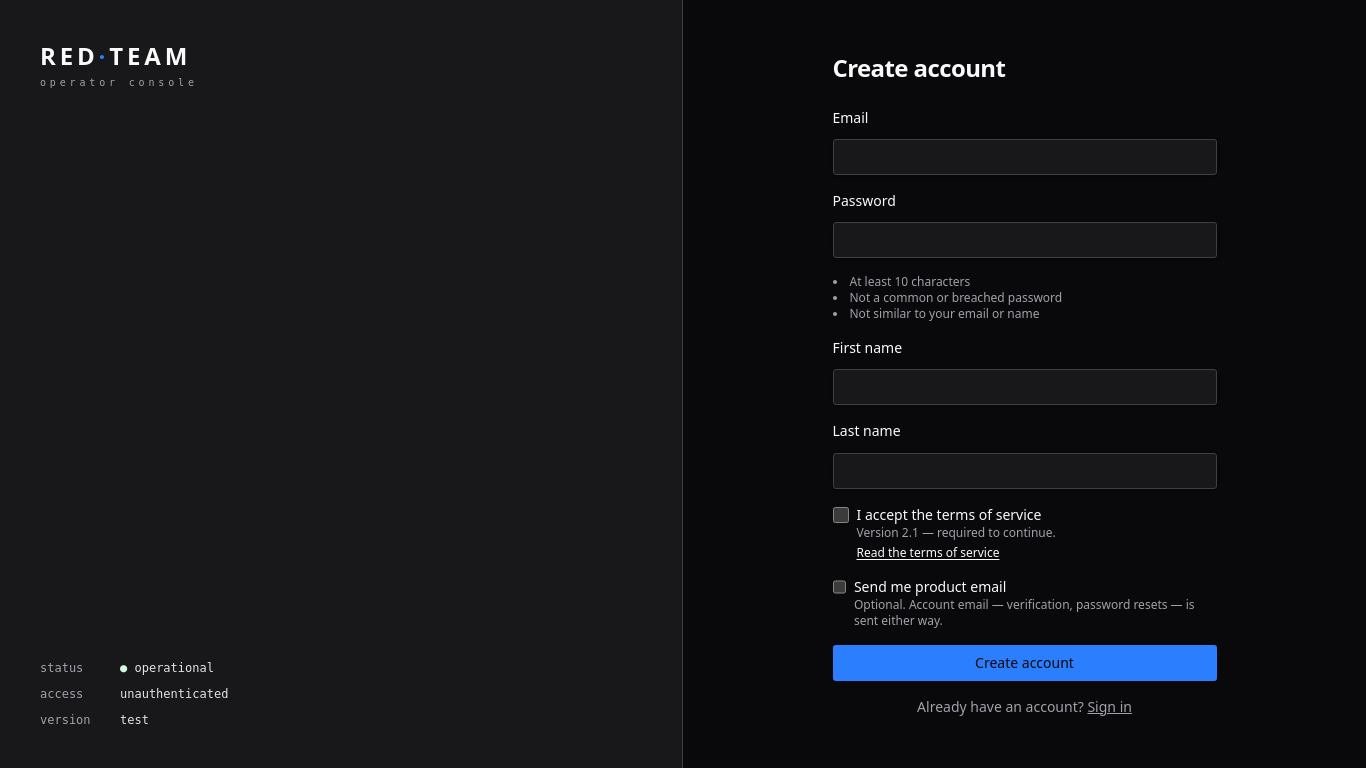
Scenario: RegisterPage — terms consent › closes the terms dialog with a button that cannot submit this form
Click the button "Read the terms of service": x=928, y=552 [856,544,1000,560]
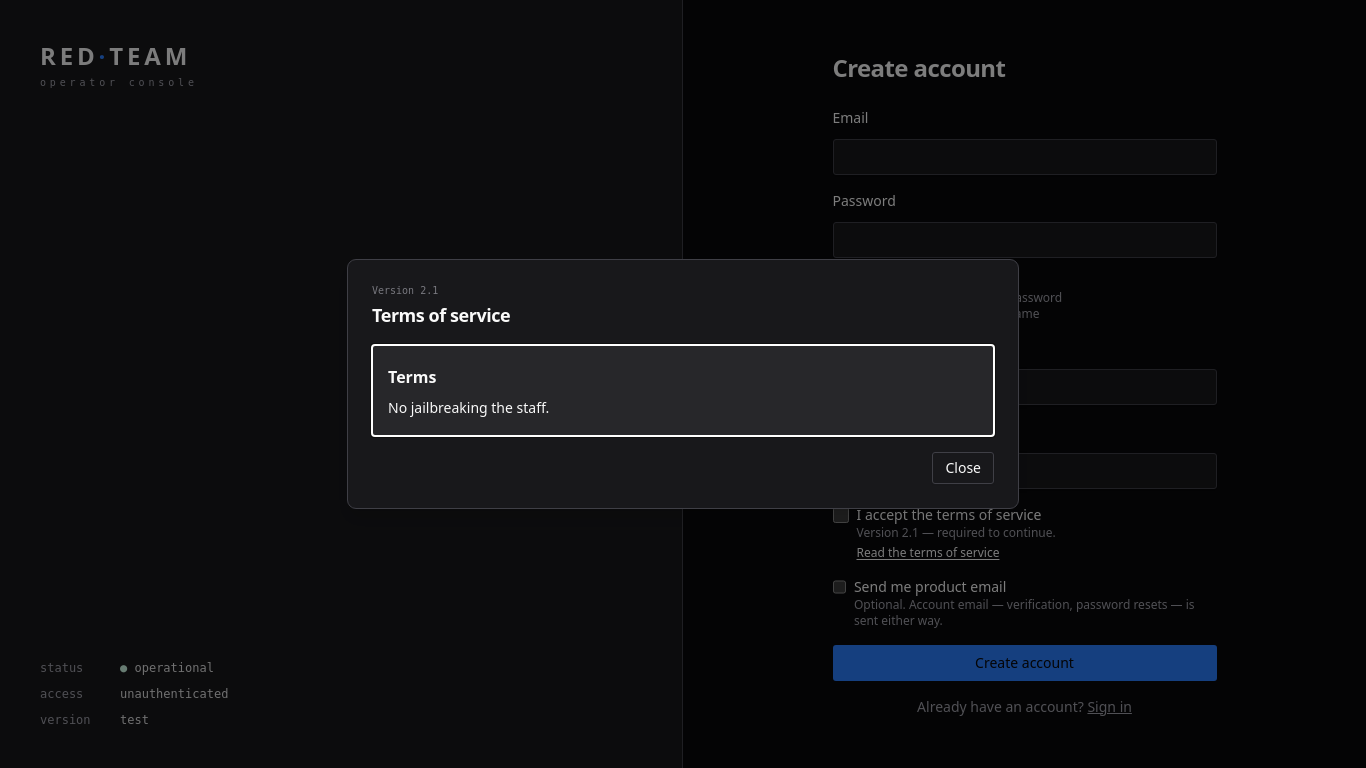
Click the button "Close": x=963, y=468 [932,452,994,484]
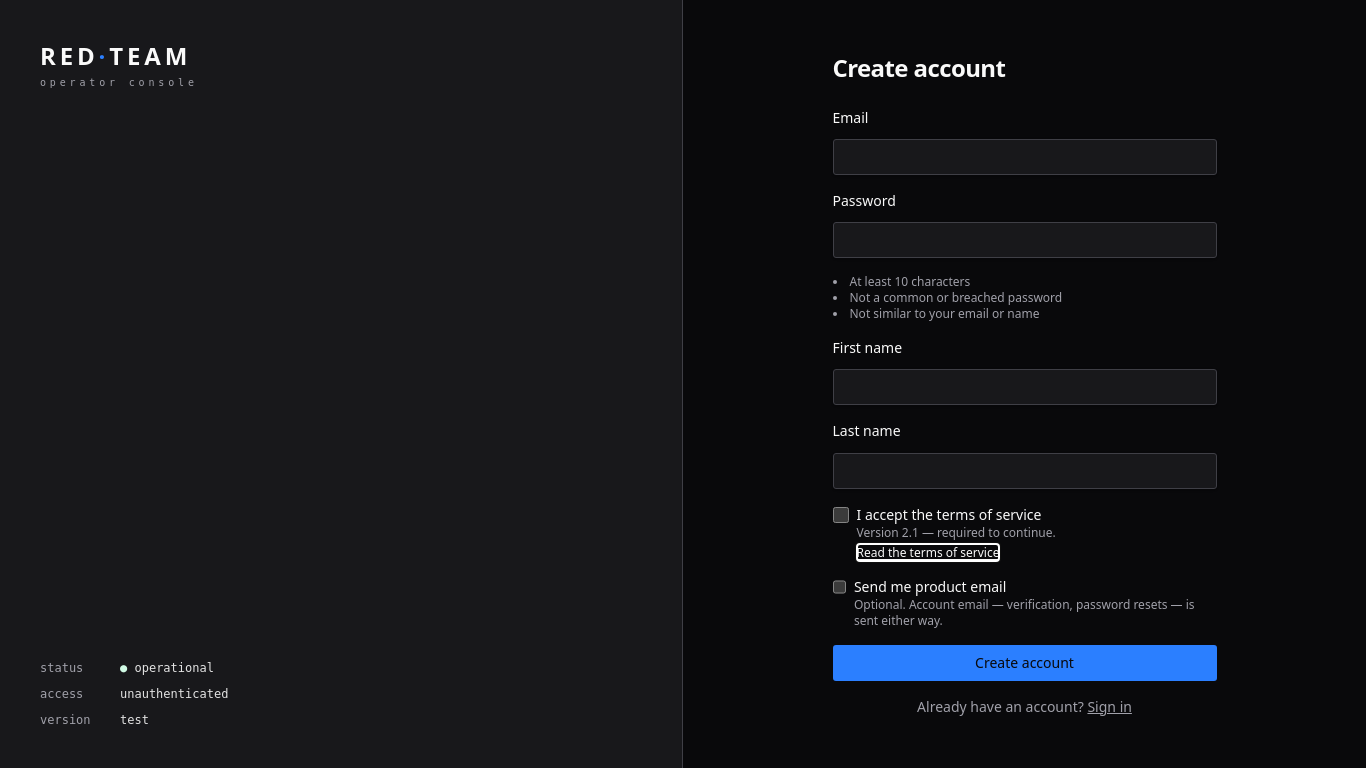
Now the dialog is gone
